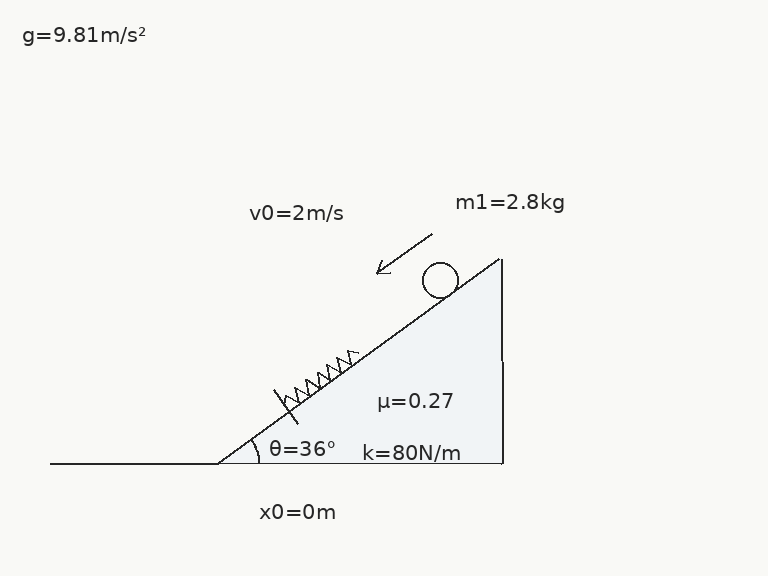ball: (420, 260, 460, 300)
ramp: (217, 256, 503, 465)
spring: (282, 347, 360, 406)
